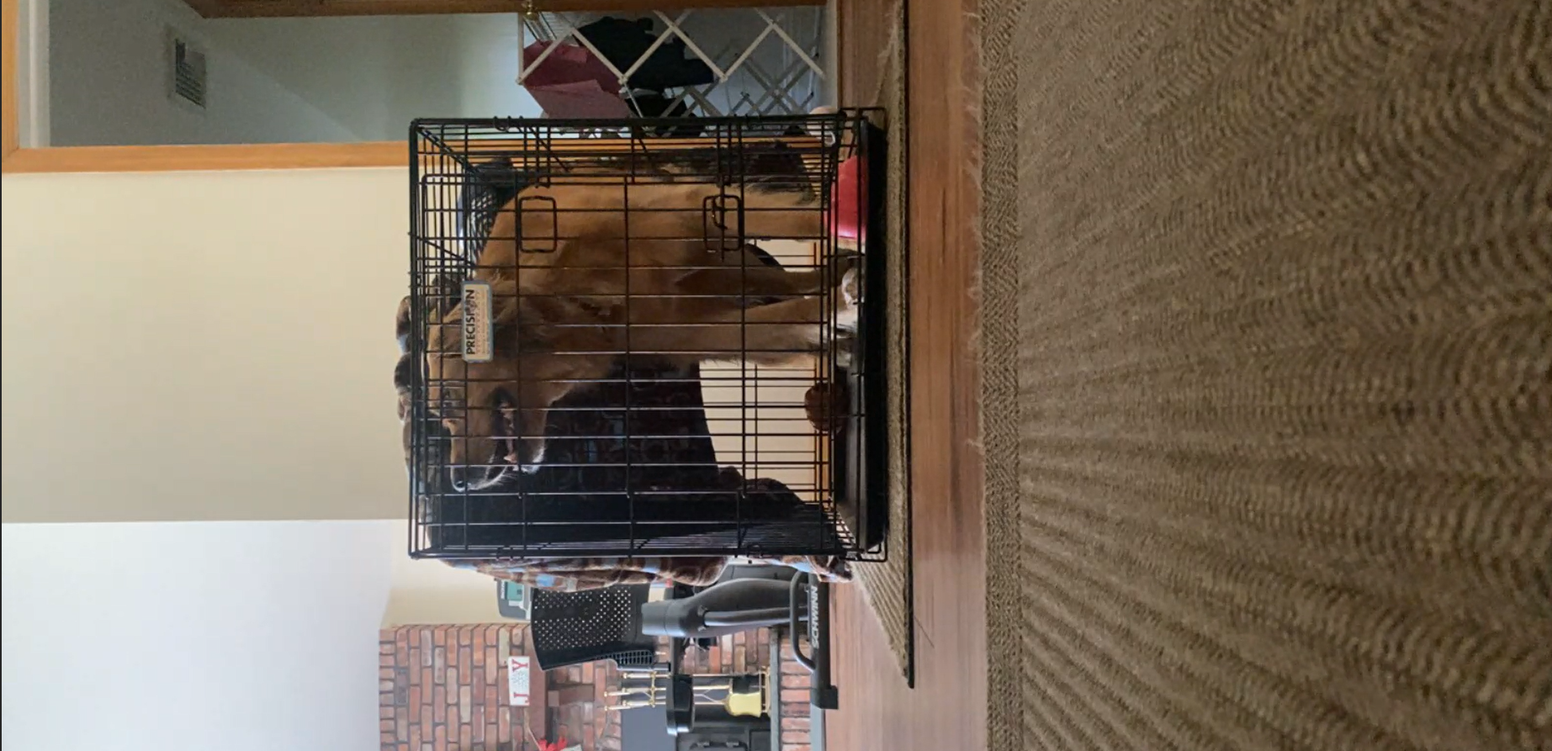penny: (423, 164, 878, 505)
